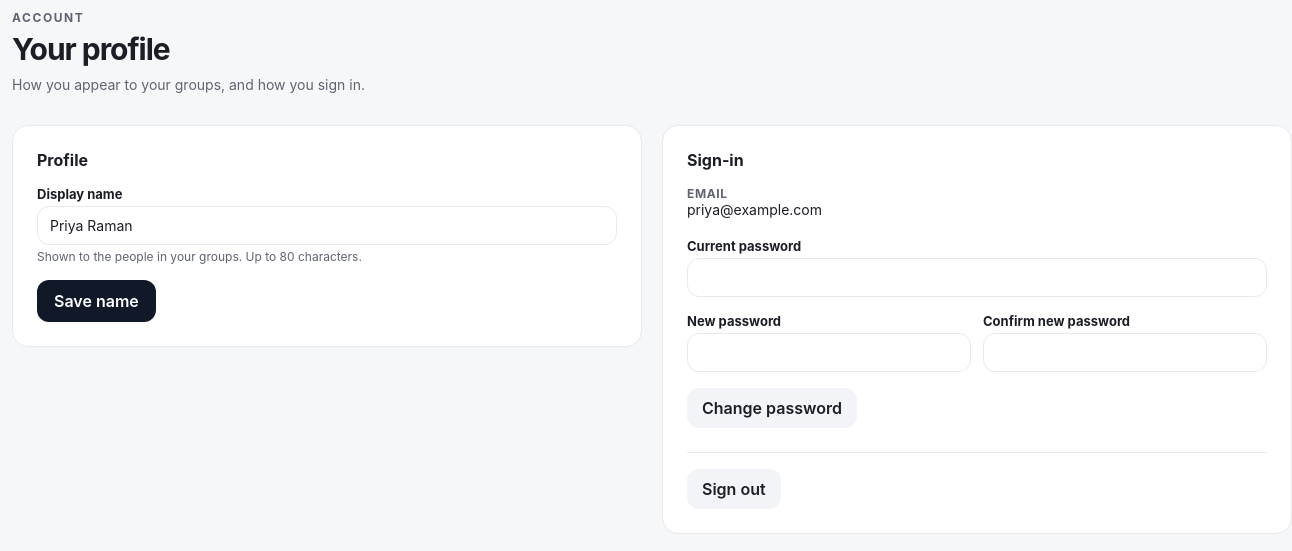
Profile page › saves a new display name and refreshes the profile everywhere
The image size is (1292, 551).
Replace the text in the field labelled "Display name" with "  Priya R  " at (327, 226), box [37,206,617,245]
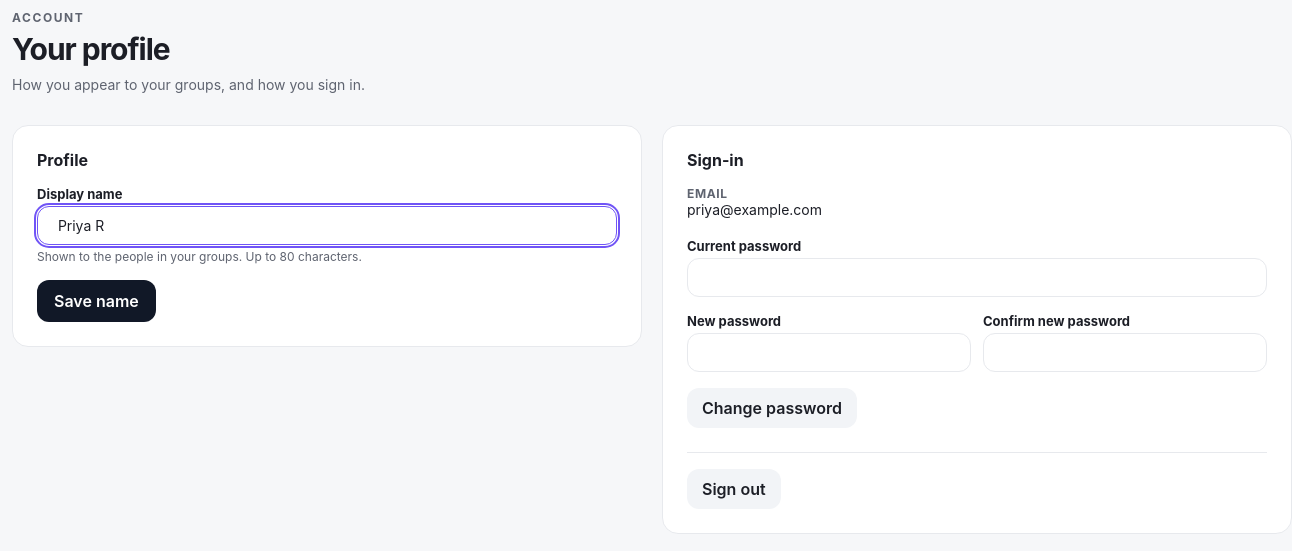
Click the button "Save name" at (96, 301), box [37,280,156,322]
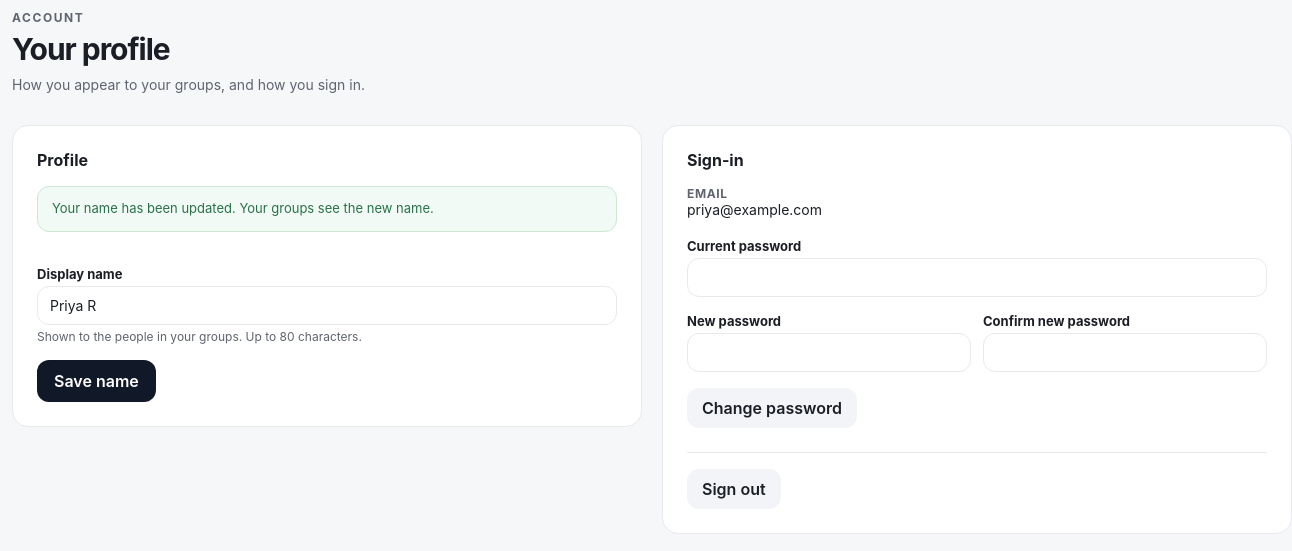
Expected: the text "Your name has been updated. Your groups see the new name." is shown, [37,186,617,232]
